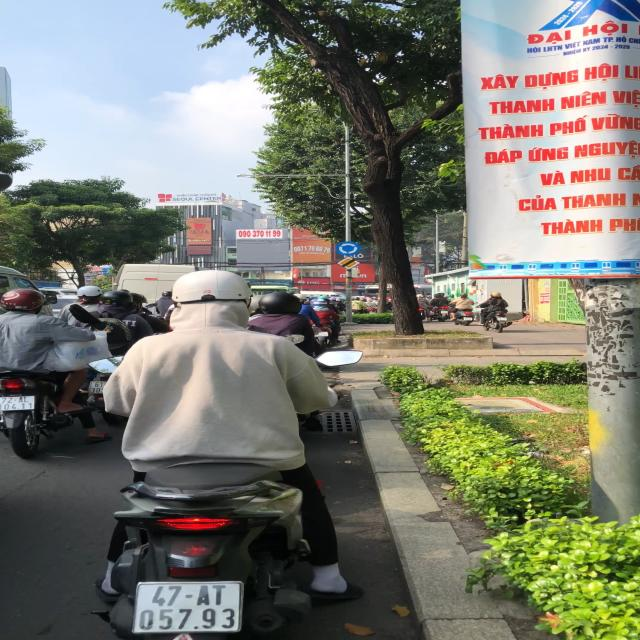Bien bao noi giao nhau chay theo vong xuyen: (334, 240, 365, 258)
